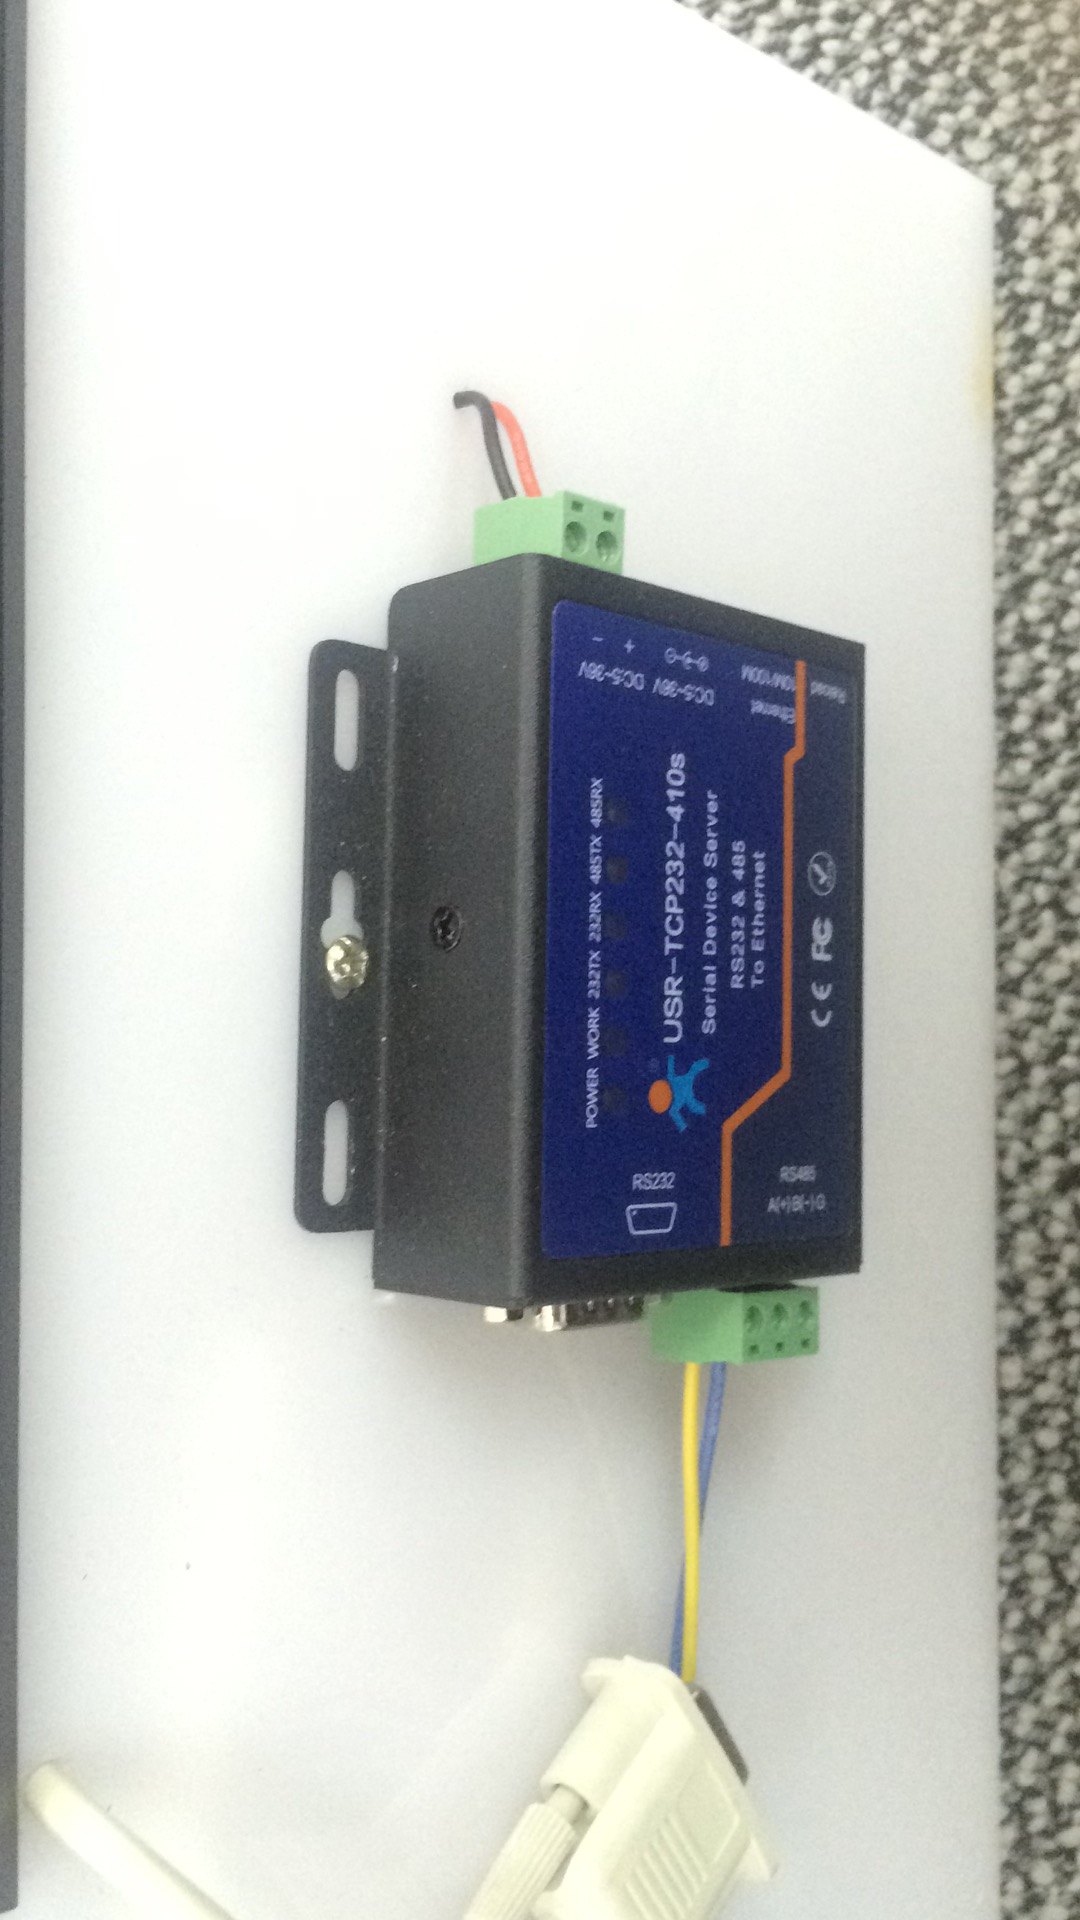modbus bridge: (262, 480, 938, 1402)
